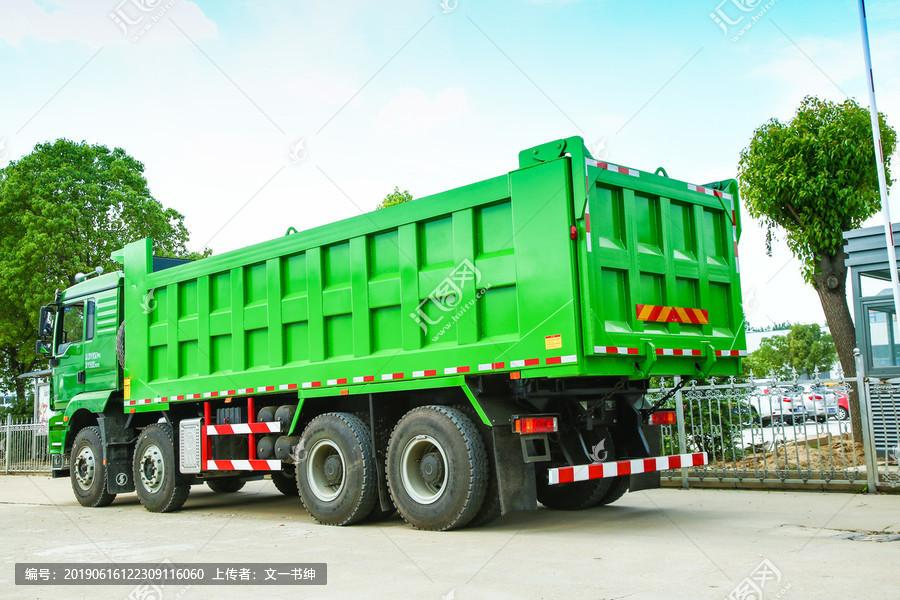truck: (31, 129, 754, 543)
